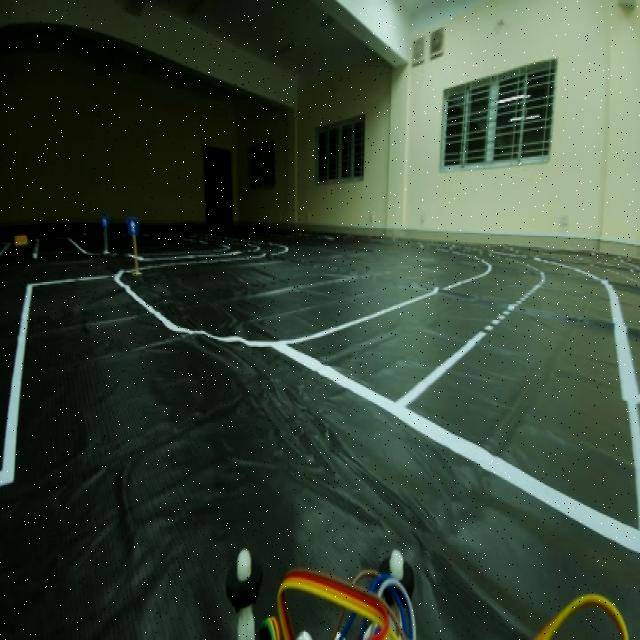onewayroad: (124, 212, 140, 238), (98, 210, 108, 229)
